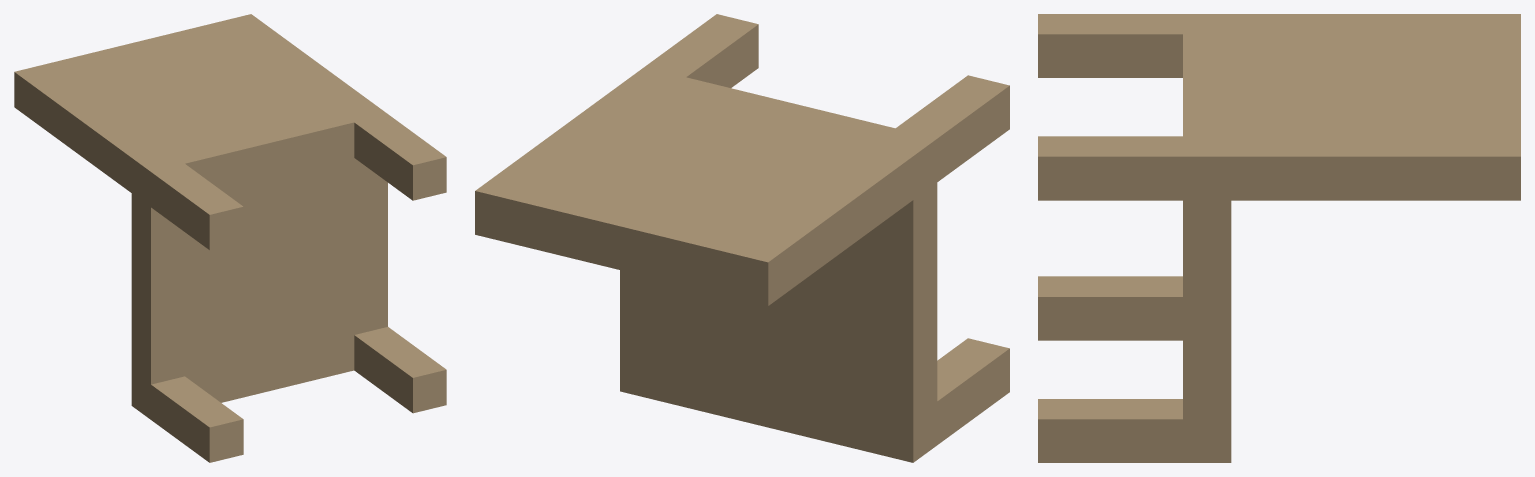
Rendered from spruce_chair_held.gltf.
3 views of the same model, side by side, from view 1: azimuth 30°, elevation 25°; view 2: azimuth 150°, elevation 25°; view 3: azimuth 270°, elevation 25° (orthographic). The views are drawn at different scales.
Visible parts, largest first — view 1: building_spruce_chair_held; view 2: building_spruce_chair_held; view 3: building_spruce_chair_held.
Part boxes in pixels (<box>): building_spruce_chair_held: <box>14,14,446,462</box>; building_spruce_chair_held: <box>475,14,1009,462</box>; building_spruce_chair_held: <box>1038,14,1520,462</box>.
Bounding box in the file's own units: 0.112 × 0.112 × 0.16.
